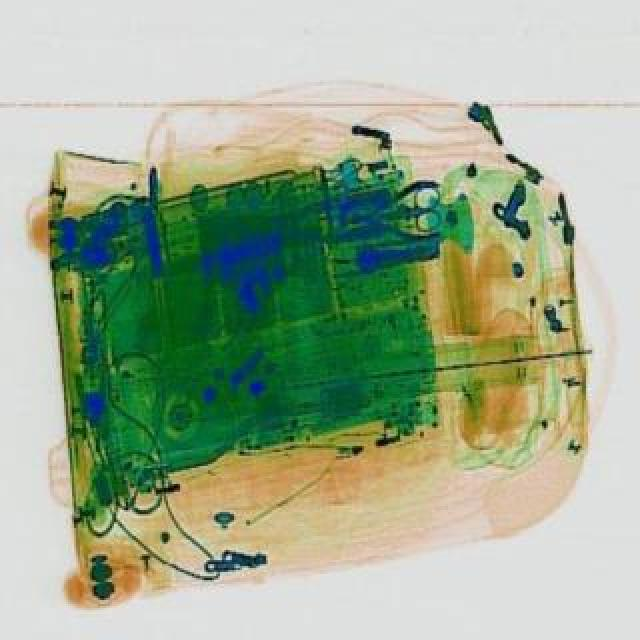pliers: (358, 180, 446, 240)
